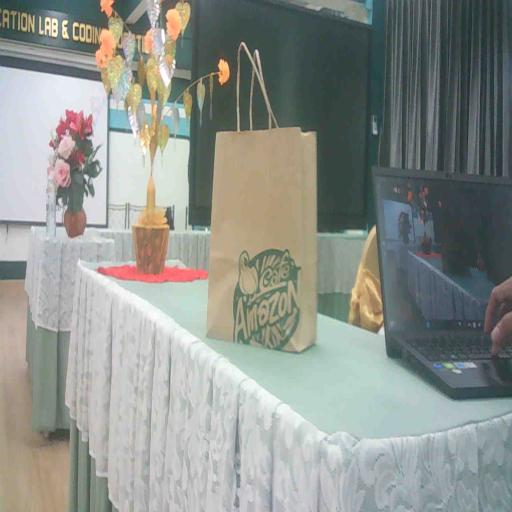bag: (208, 127, 322, 359)
